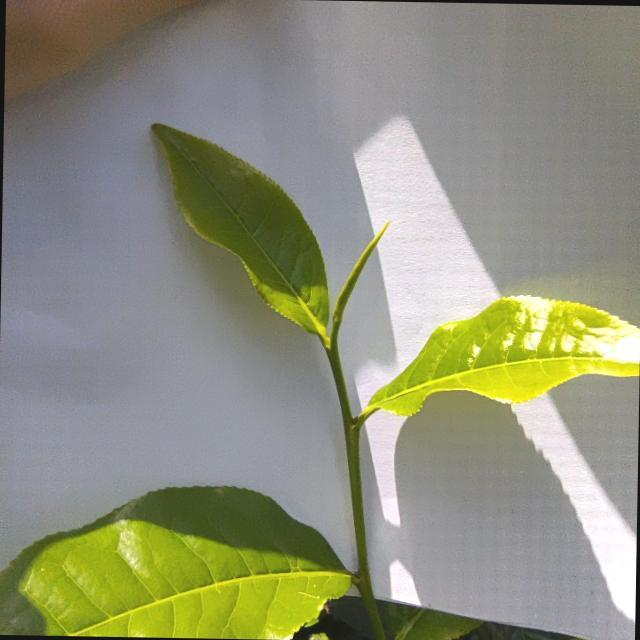Stem: (328, 351, 344, 387)
